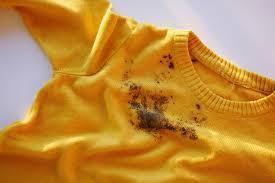earth: (129, 90, 170, 131), (161, 53, 173, 70), (180, 129, 198, 140), (194, 104, 202, 124)
